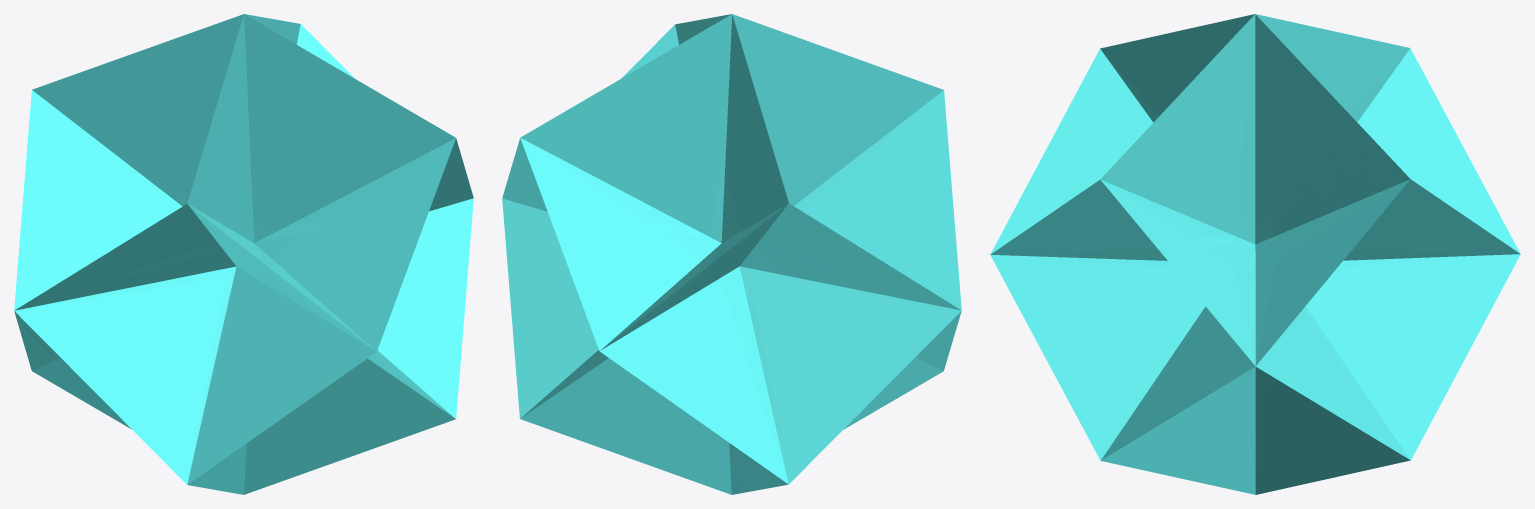
Rendered from Mobius48b.obj.
3 views of the same model, side by side, from view 1: azimuth 30°, elevation 25°; view 2: azimuth 150°, elevation 25°; view 3: azimuth 270°, elevation 25° (orthographic).
Bounding box in the file's own units: 2.16 × 2.16 × 2.16.
